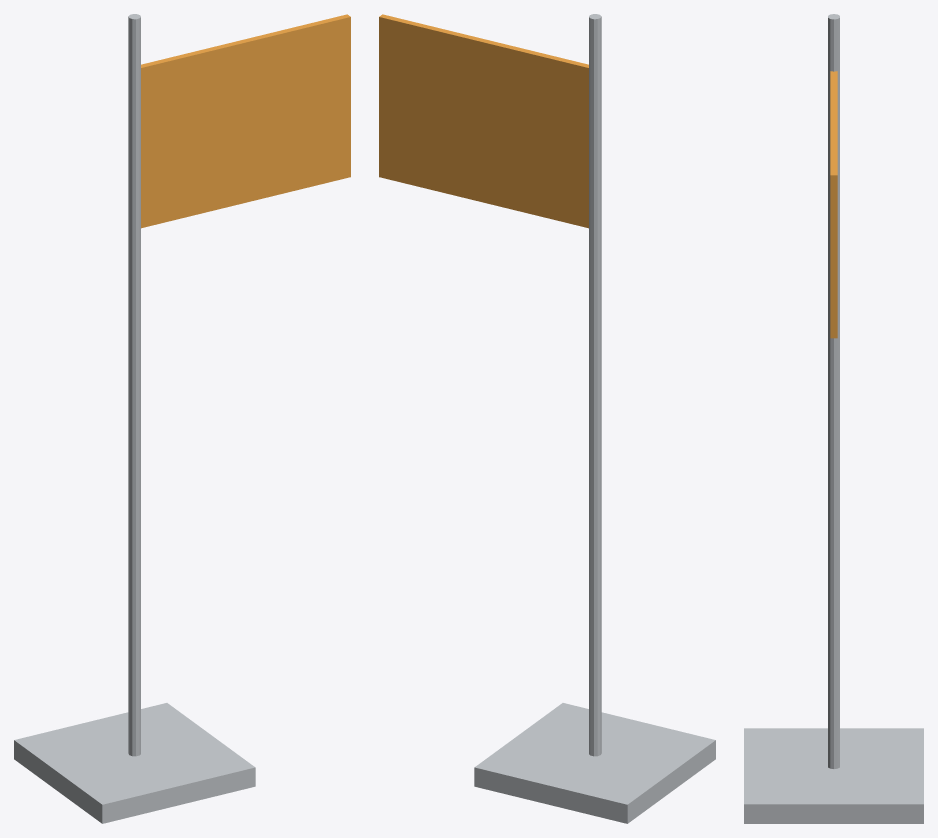
The model's file is mech-hangar-and-battle-frames-capture-flag-7a3f2a12__26987.glb.
3 views of the same model, side by side, from view 1: azimuth 30°, elevation 25°; view 2: azimuth 150°, elevation 25°; view 3: azimuth 270°, elevation 25° (orthographic).
Parts seen in each view (by area): view 1: capture-flag; view 2: capture-flag; view 3: capture-flag.
Part boxes in pixels (bbox=[...]): capture-flag: bbox=[14, 14, 350, 823]; capture-flag: bbox=[379, 14, 715, 823]; capture-flag: bbox=[744, 14, 923, 823].
Bounding box in the file's own units: 0.9499 × 2.36 × 0.4998.
